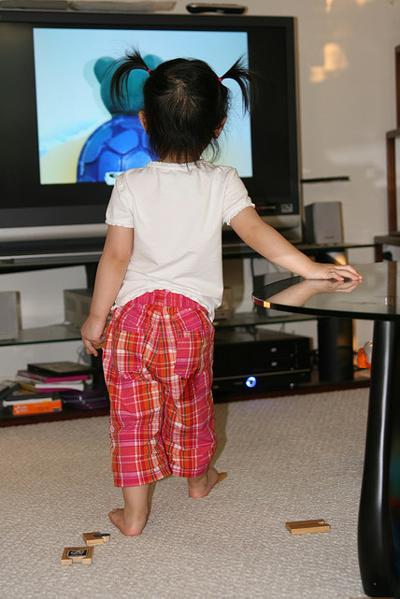person: (82, 50, 363, 536)
